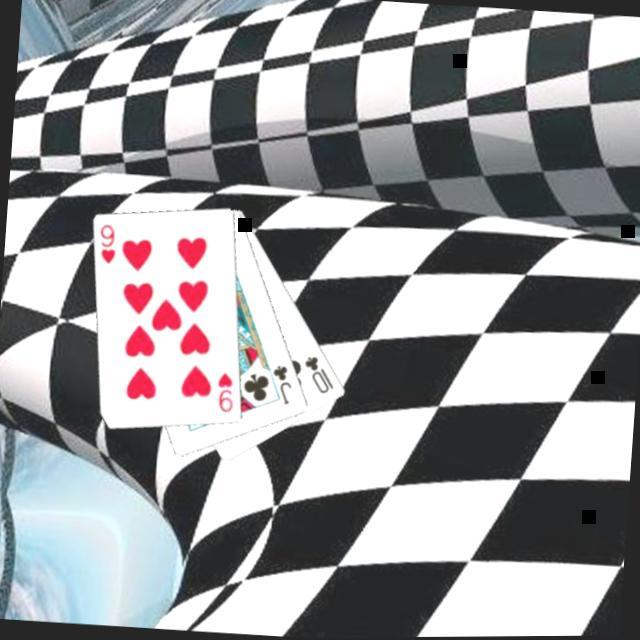10C: (298, 352, 338, 396)
9H: (212, 368, 238, 415), (94, 221, 120, 266)
JC: (267, 361, 296, 407)
